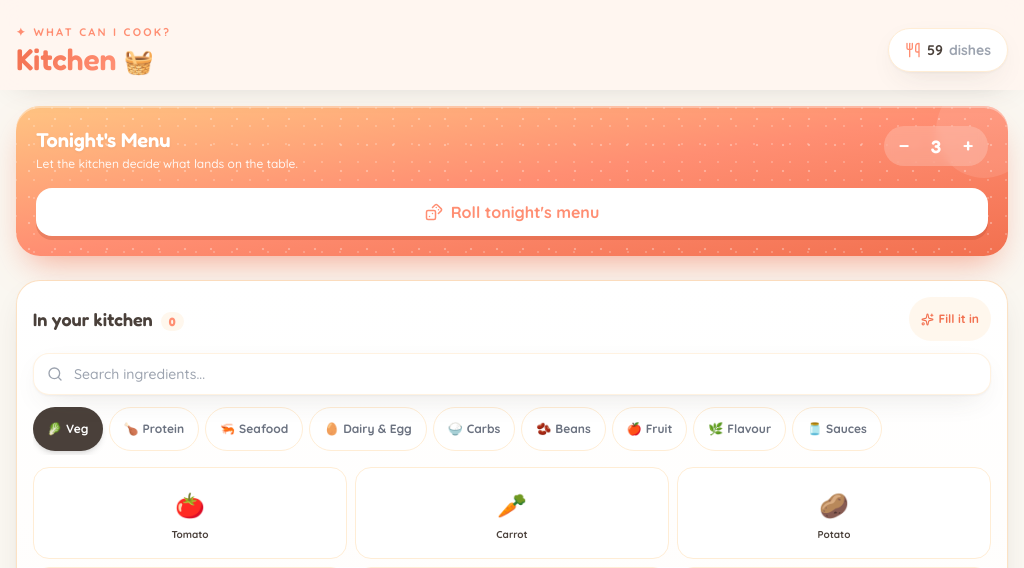
Test case: PantryKitchen › filters the ingredient picker by search
Type "zzzz" into the search field labelled "Search ingredients..." at coordinates (512, 374), box [33,353,991,395]
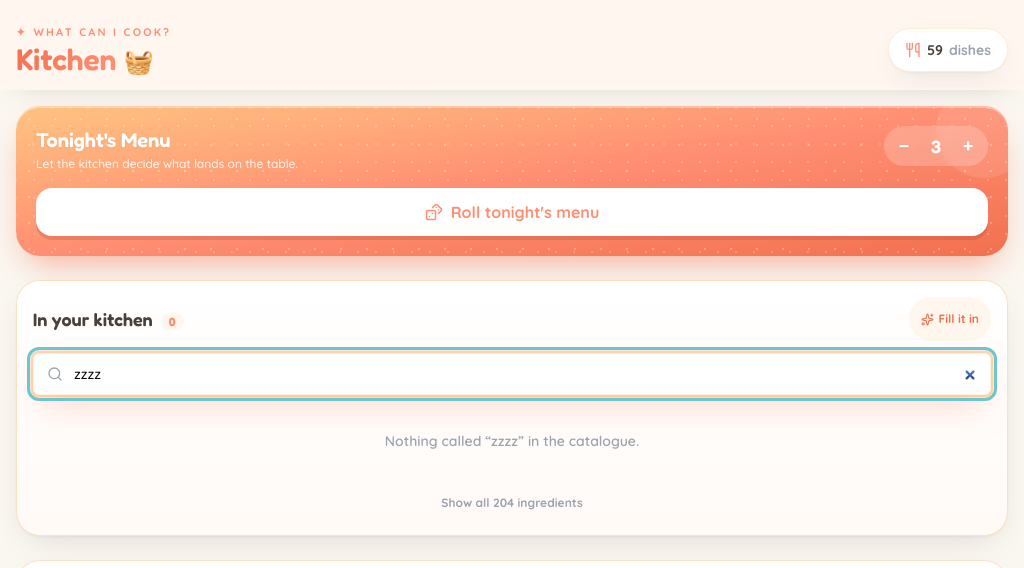
Result: the text "Nothing called “zzzz” in the catalogue." is shown at [385,432,639,450]
